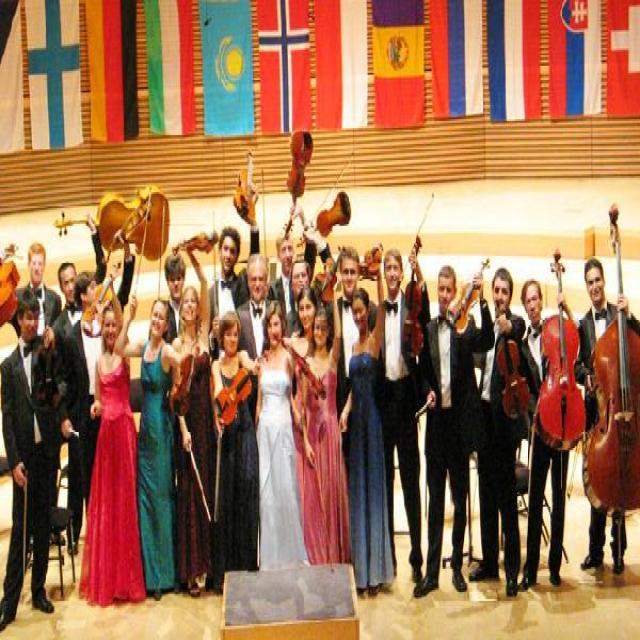cello: (532, 250, 588, 451), (53, 188, 170, 262), (0, 229, 22, 327)
violin: (491, 299, 532, 427), (213, 354, 268, 427), (444, 258, 492, 338), (284, 127, 317, 237), (80, 259, 123, 336), (298, 190, 354, 247), (169, 340, 203, 419), (402, 240, 424, 360), (313, 246, 349, 306), (236, 148, 261, 227), (172, 227, 218, 256), (363, 244, 388, 276)
